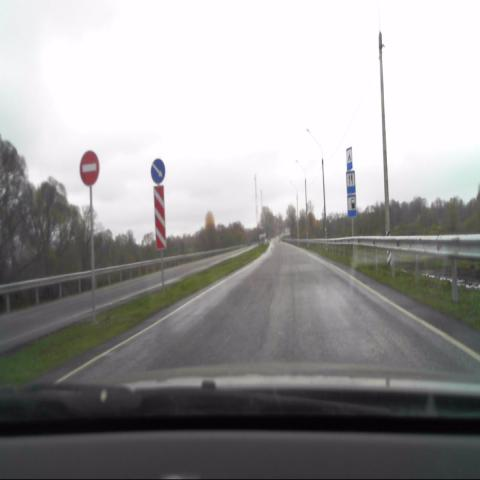3_1: (80, 150, 100, 185)
4_2_1: (150, 158, 166, 186)
7_7: (346, 171, 356, 194)
